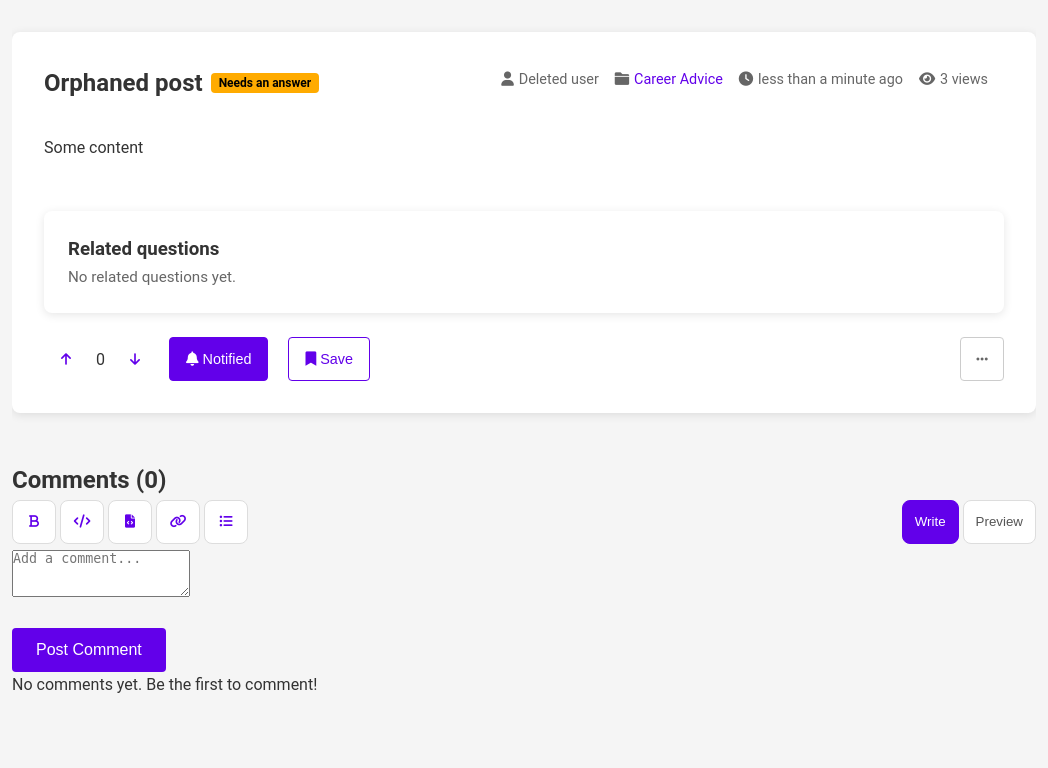
Test: PostDetail notify-me subscription toggle › shows "Notified" when already subscribed, and unsubscribes on click
What coordinates should you click on to do the following:
click the button "Notified"
I would click on:
 (219, 359)
Its box is [169,337,268,381].
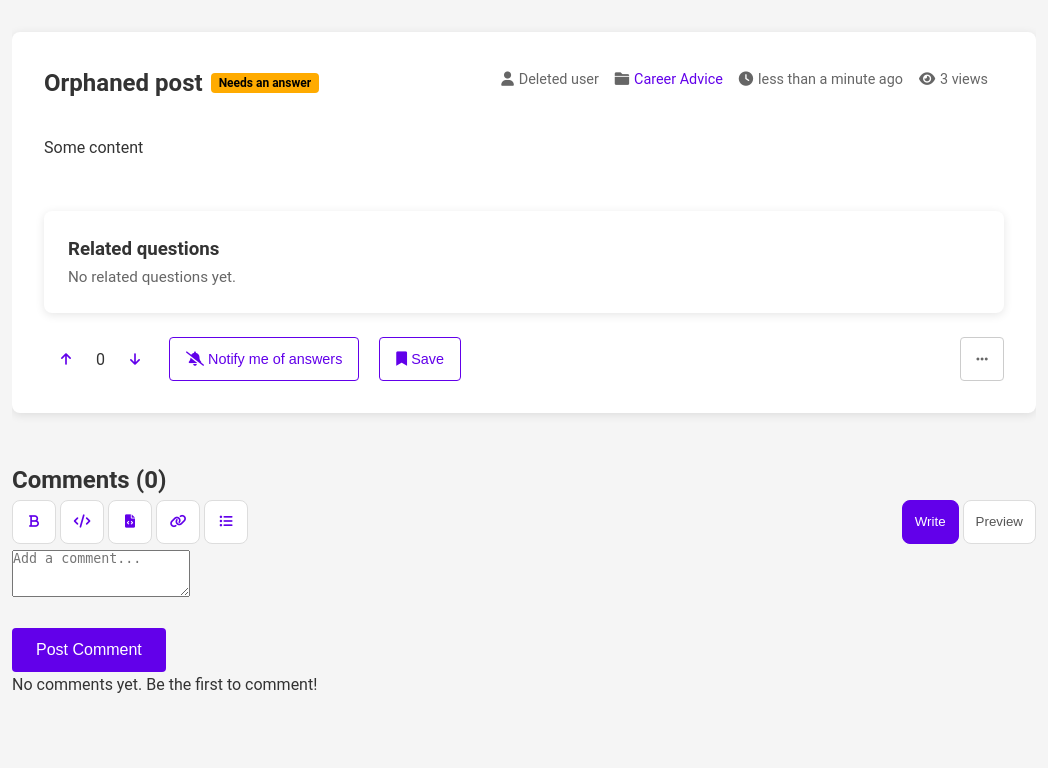
Check: the button "Notify me of answers" is shown, box [169,337,359,381]
